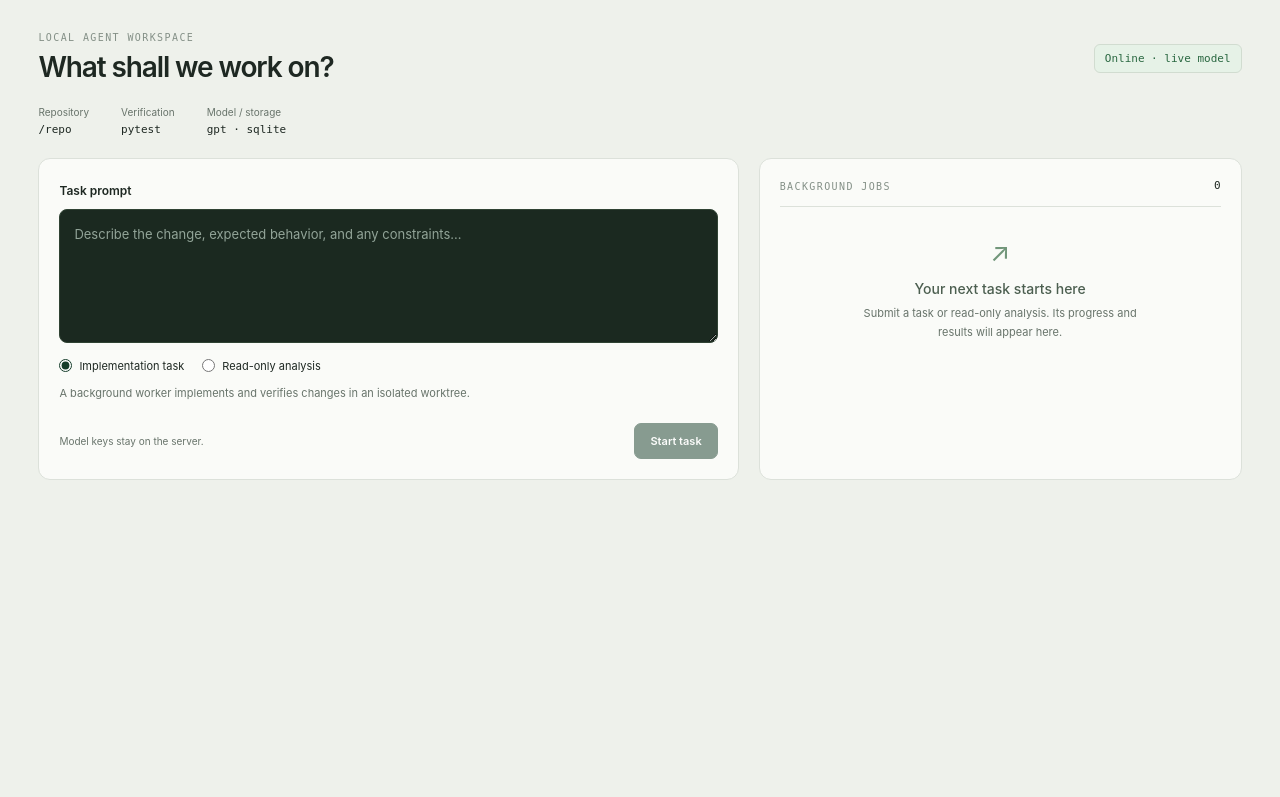
Test: preserves the draft and shows a server rejection instead of pretending submission succeeded
Expected: the text "Online · live model" is shown, [1094,44,1242,72]
In the text box labelled "Task prompt": point(389, 276) [59,209,718,343], type "Repair input"
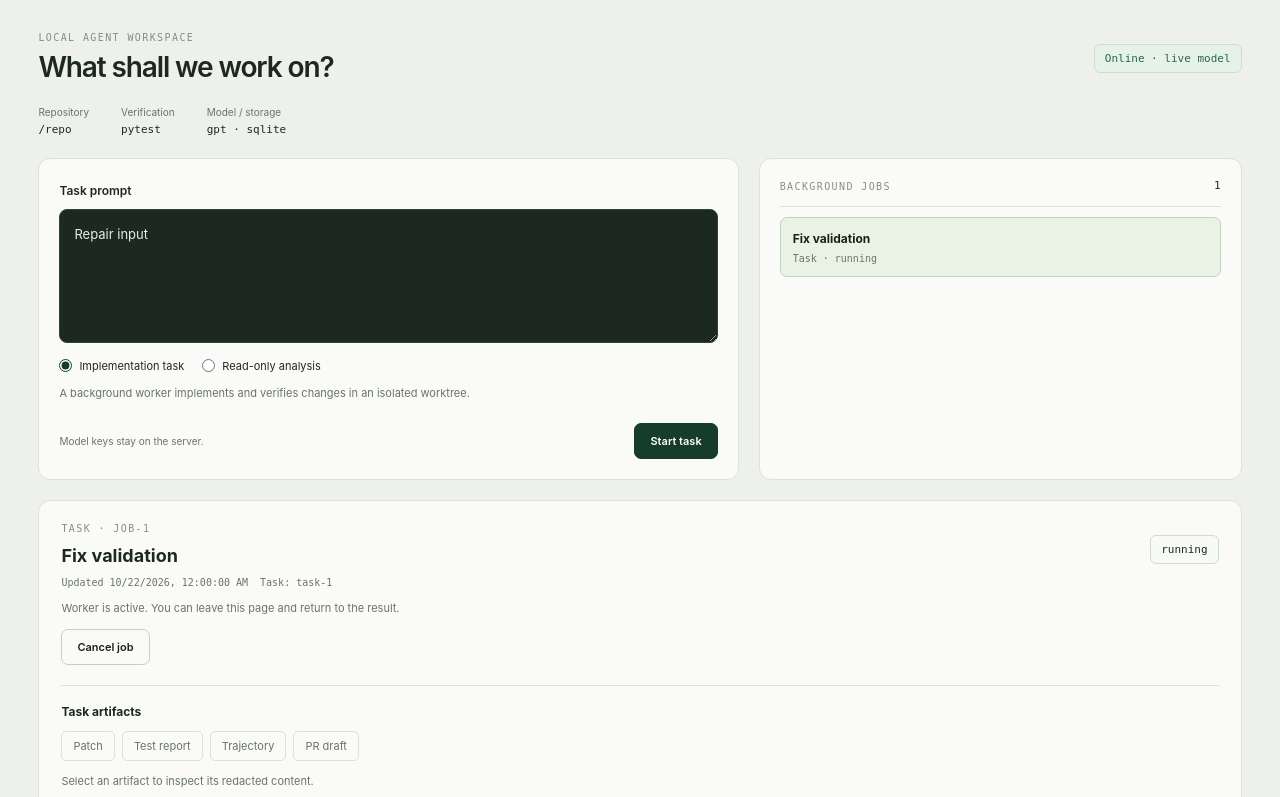
Click the button "Start task": point(676, 441) [634,423,718,459]
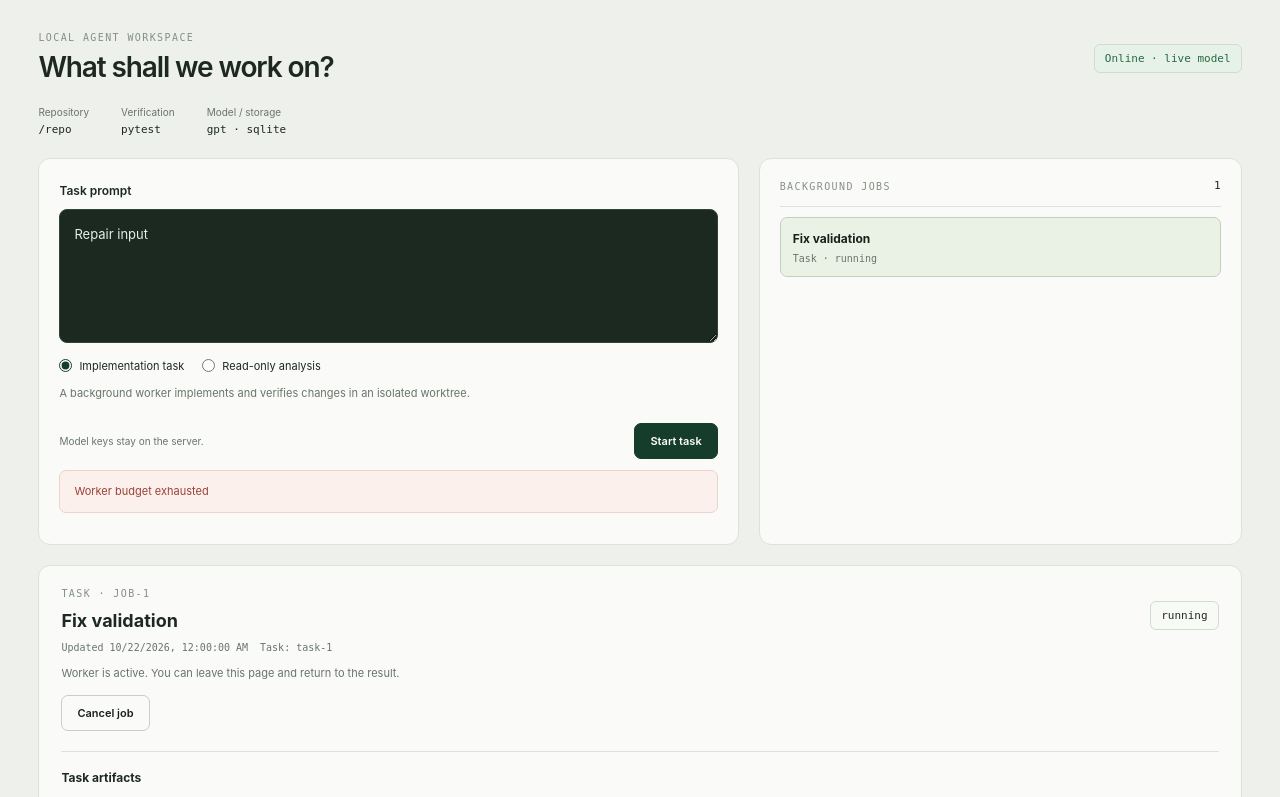
Expected: the text "Worker budget exhausted" is shown, [59,470,718,513]
